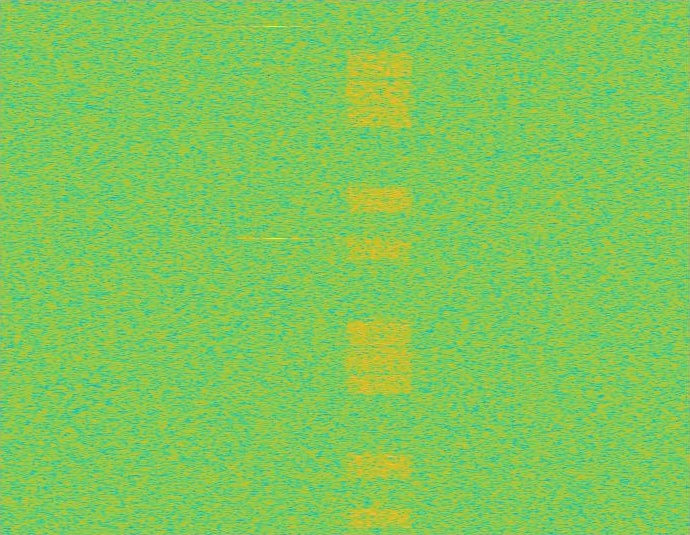LTE: (345, 0, 414, 534)
Radar: (268, 0, 282, 534)
